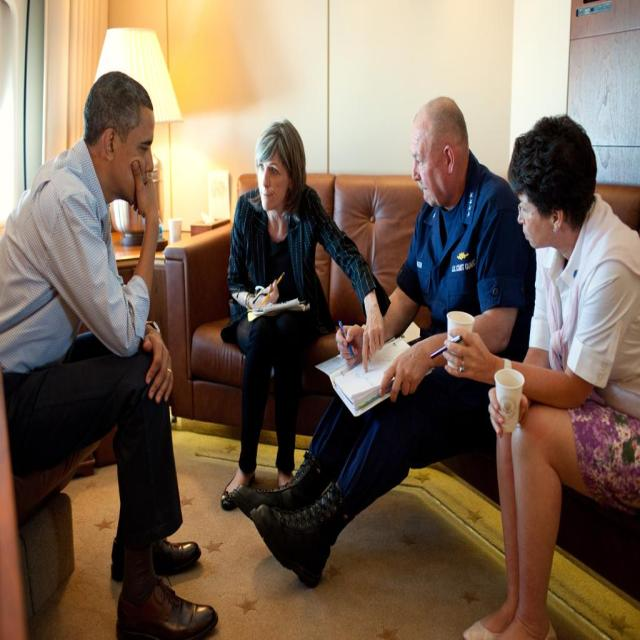Face: (97, 96, 163, 208), (408, 107, 449, 214), (513, 164, 559, 257), (250, 153, 299, 225)
